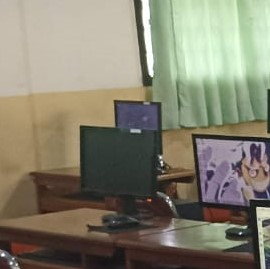monitor: (191, 134, 270, 211), (79, 125, 158, 199), (114, 100, 163, 156), (249, 199, 270, 268)
